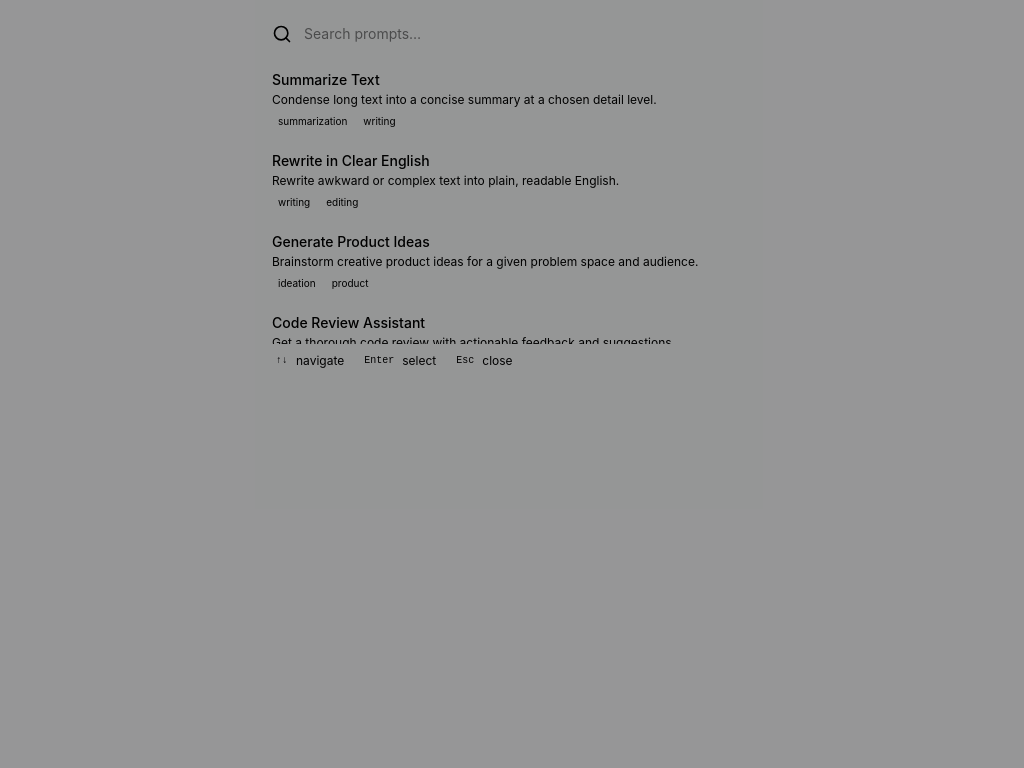
it: CommandPalette › filters results as user types
Type "Summarize" into the field labelled "Search prompts". click: (528, 34)
box: [304,24,752,44]
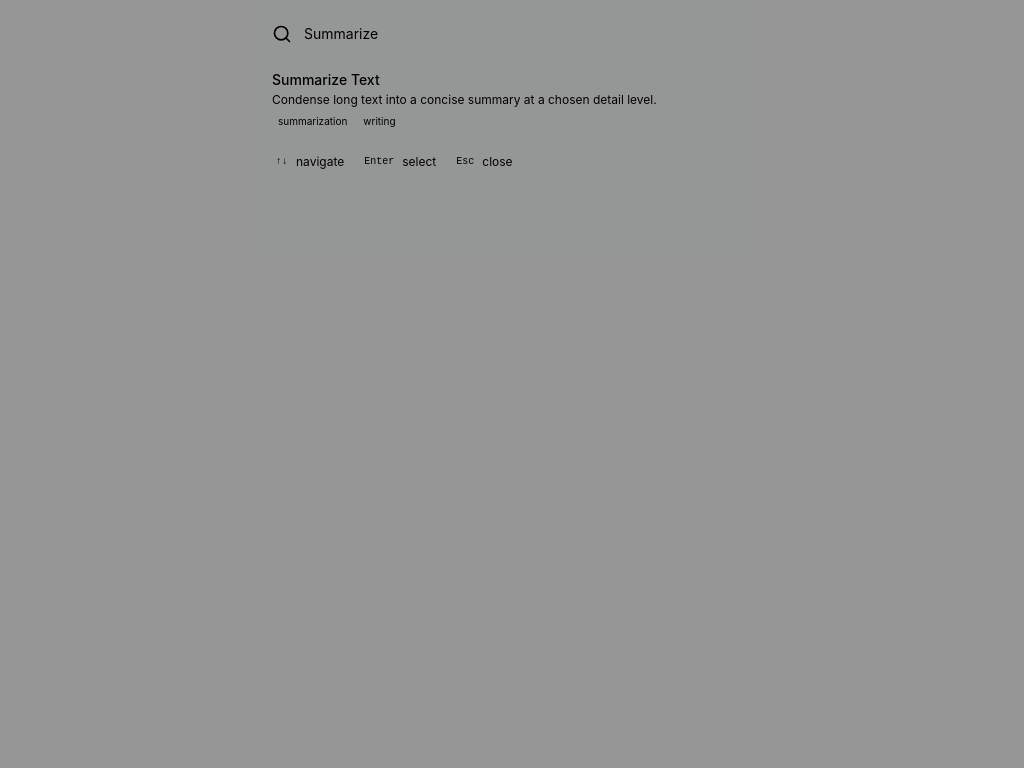
Check: the text "Summarize Text" is shown, box [272,71,380,88]
Check: the option "Code Review Assistant" is gone
